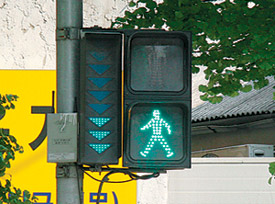traffic_light: (125, 30, 192, 169)
traffic_light_left: (81, 29, 121, 164)
